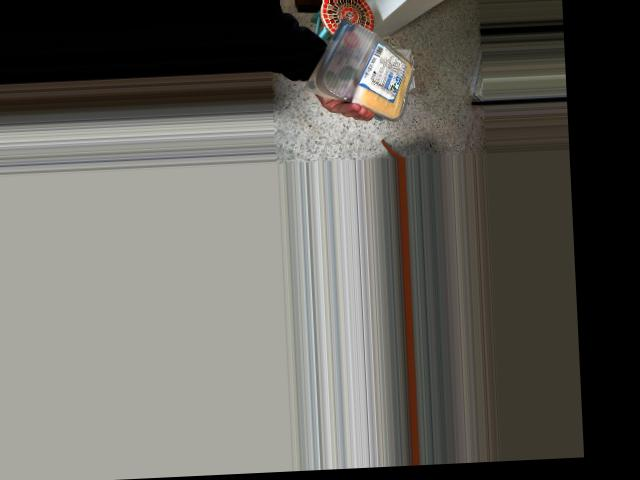cheese: (319, 14, 423, 111)
